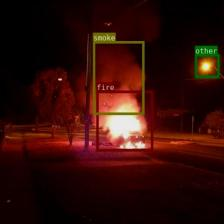fire: (96, 90, 152, 151)
smoke: (93, 41, 144, 114)
